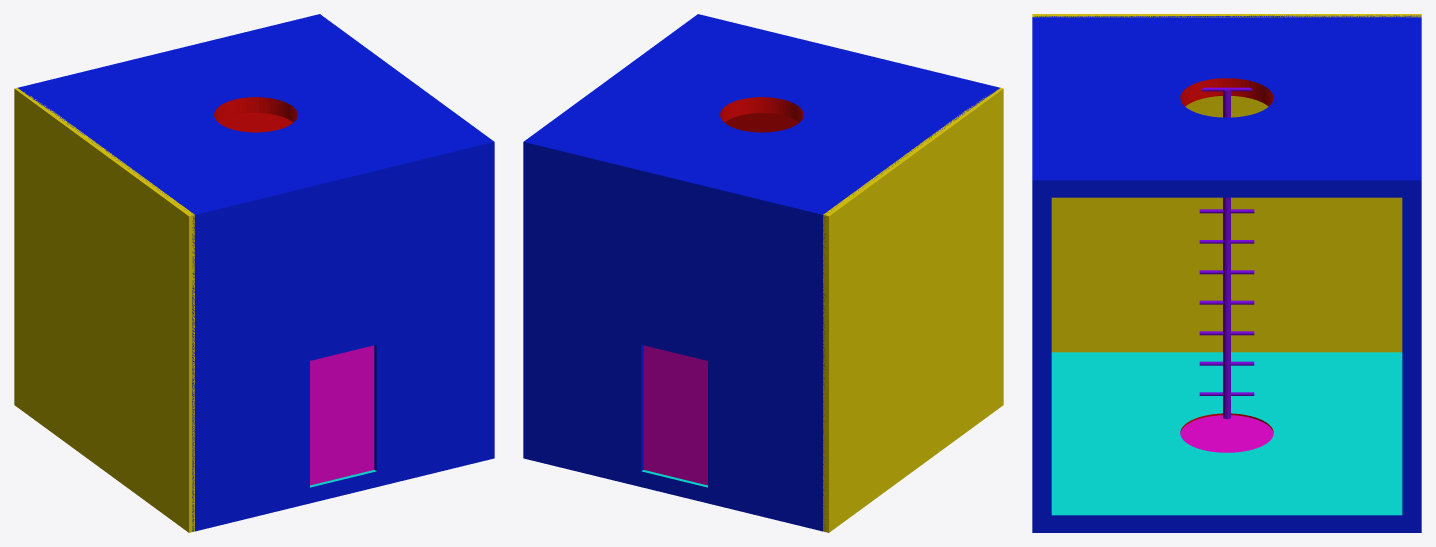
File: Ladder Room.fbx
The picture shows the model from 3 angles, left to right: view 1: azimuth 30°, elevation 25°; view 2: azimuth 150°, elevation 25°; view 3: azimuth 270°, elevation 25°; orthographic projection. The views are drawn at different scales.
Visible parts, largest first — view 1: Room, Door L; view 2: Room, Door R; view 3: Room, Ladder, Hatch D.
Part boxes in pixels (x1,y1,x2,y2): Room: (14, 14, 494, 532); Door L: (310, 345, 374, 485); Room: (523, 14, 1003, 532); Door R: (643, 345, 707, 485); Room: (1032, 14, 1421, 532); Ladder: (1199, 87, 1254, 419); Hatch D: (1180, 415, 1273, 452).
Bounding box in the file's own units: 202 × 200 × 200.
